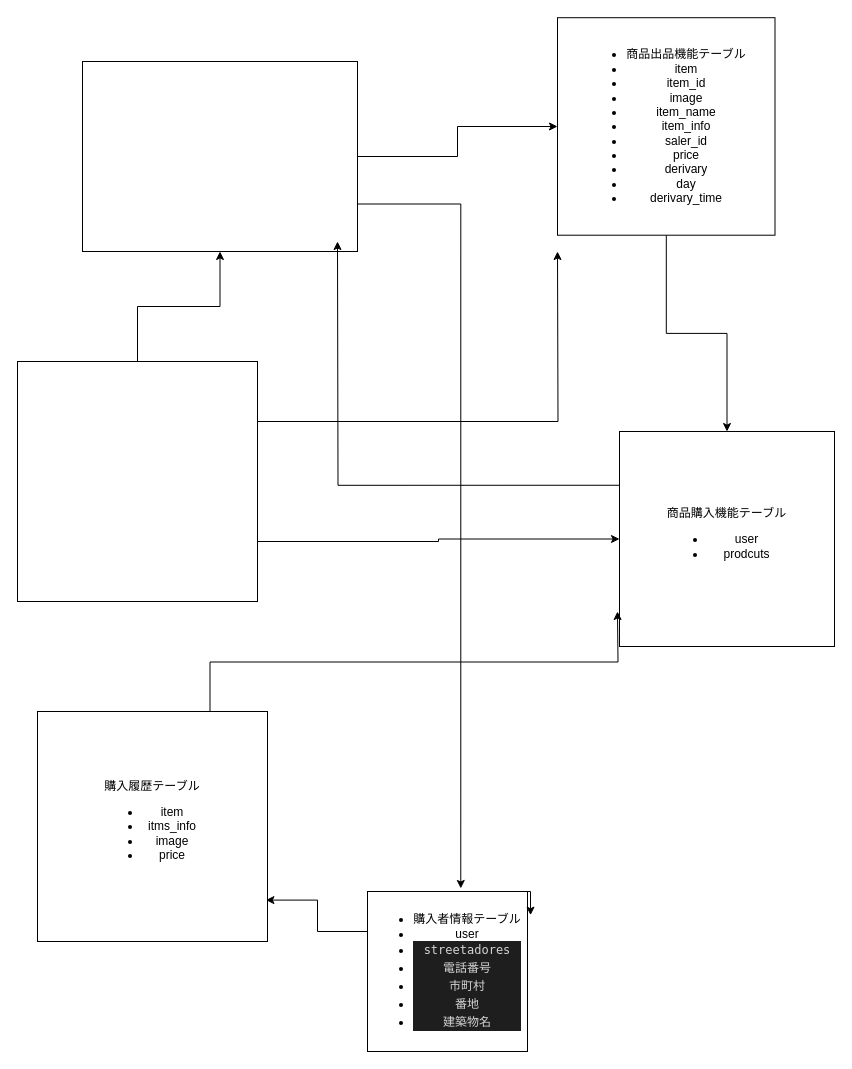
The diagram is 852 pixels wide and 1069 high, and some of its shapes have lost their labels. The shapes that lost their labels are listed below. From the top down, each one's box as (x1, y1, x2, y2) in pixels, then its label:
(82, 60, 358, 252): users teable id password email name user_info
(16, 360, 258, 602): comment room text
